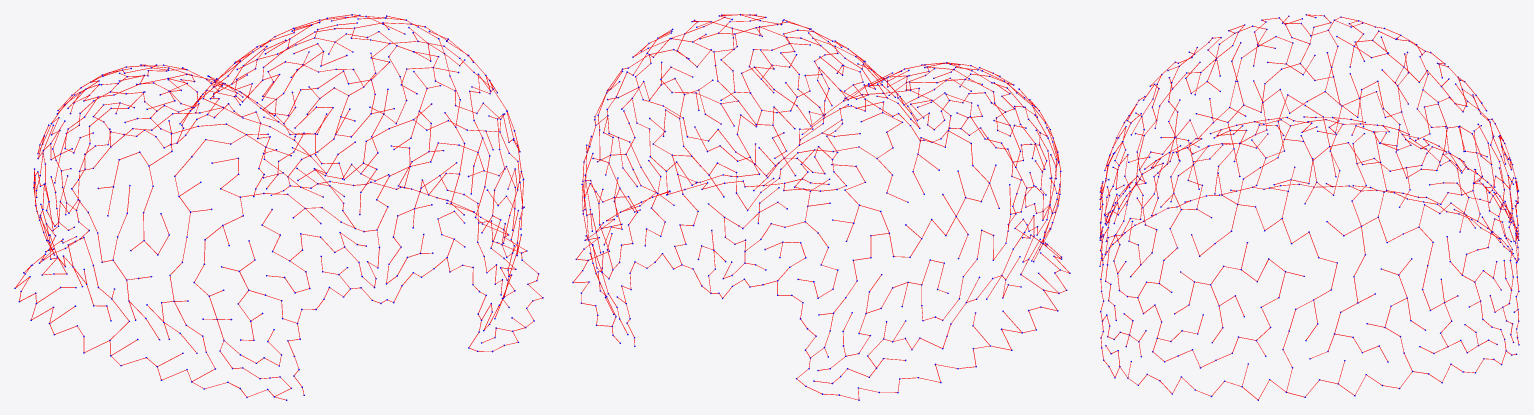
The model's file is MazeWow.glb.
The picture shows the model from 3 angles, left to right: view 1: azimuth 30°, elevation 25°; view 2: azimuth 150°, elevation 25°; view 3: azimuth 270°, elevation 25°; orthographic projection. The views are drawn at different scales.
Size of the model in its own units: 2.36 by 1.23 by 1.99.
